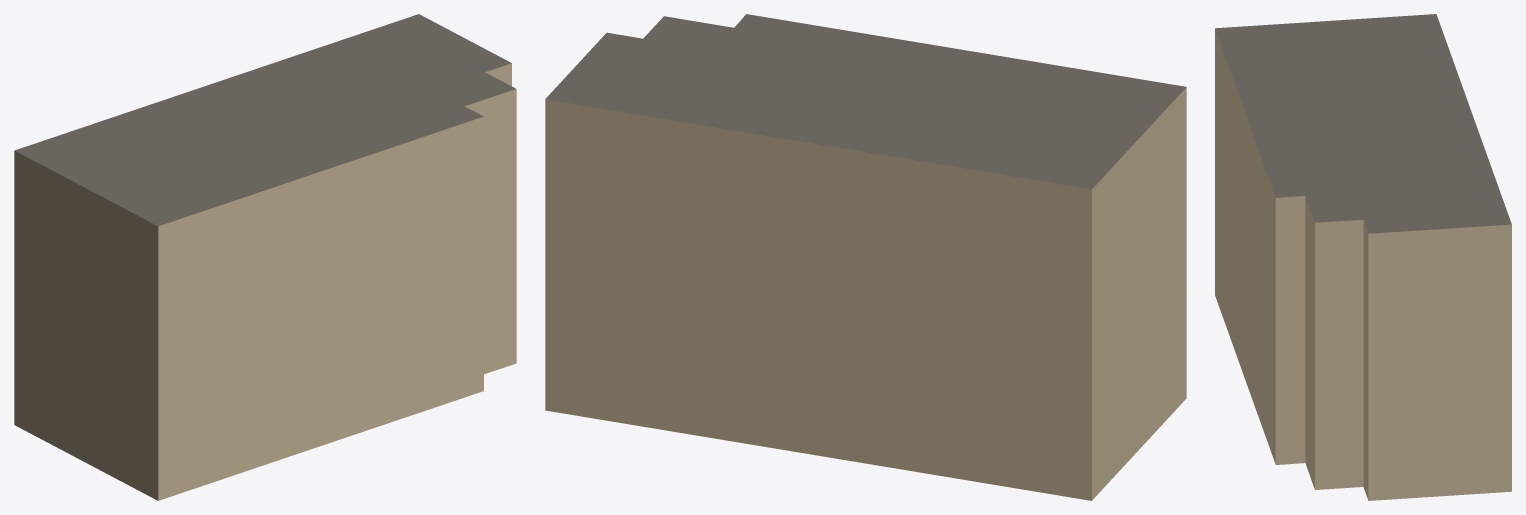
3 renders of one model, left to right at view 1: azimuth 30°, elevation 25°; view 2: azimuth 150°, elevation 25°; view 3: azimuth 270°, elevation 25°, orthographic. The views are drawn at different scales.
Visible parts, largest first — view 1: HP-w1416878573; view 2: HP-w1416878573; view 3: HP-w1416878573.
Part boxes in pixels (<box>): HP-w1416878573: <box>14,14,516,500</box>; HP-w1416878573: <box>545,14,1186,500</box>; HP-w1416878573: <box>1215,14,1511,500</box>.
Bounding box in the file's own units: 34.92 × 19.8 × 19.94.
